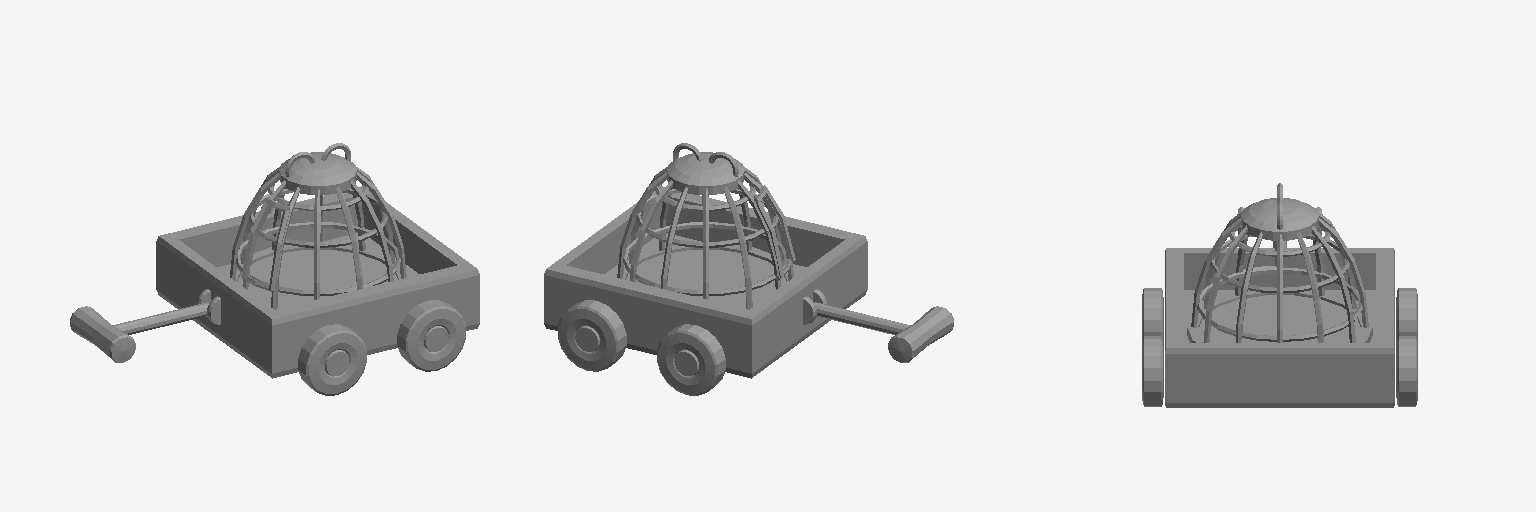
Rendered from Birdcage.obj.
3 views of the same model, side by side, from view 1: azimuth 30°, elevation 25°; view 2: azimuth 150°, elevation 25°; view 3: azimuth 270°, elevation 25° (orthographic).
Visible parts, largest first — view 1: Cylinder.003; view 2: Cylinder.003; view 3: Cylinder.003.
Part boxes in pixels (x1,y1,x2,y2): Cylinder.003: (70, 143, 479, 395); Cylinder.003: (544, 143, 953, 395); Cylinder.003: (1142, 183, 1417, 407).
Bounding box in the file's own units: 23.05 × 12.3 × 16.58.